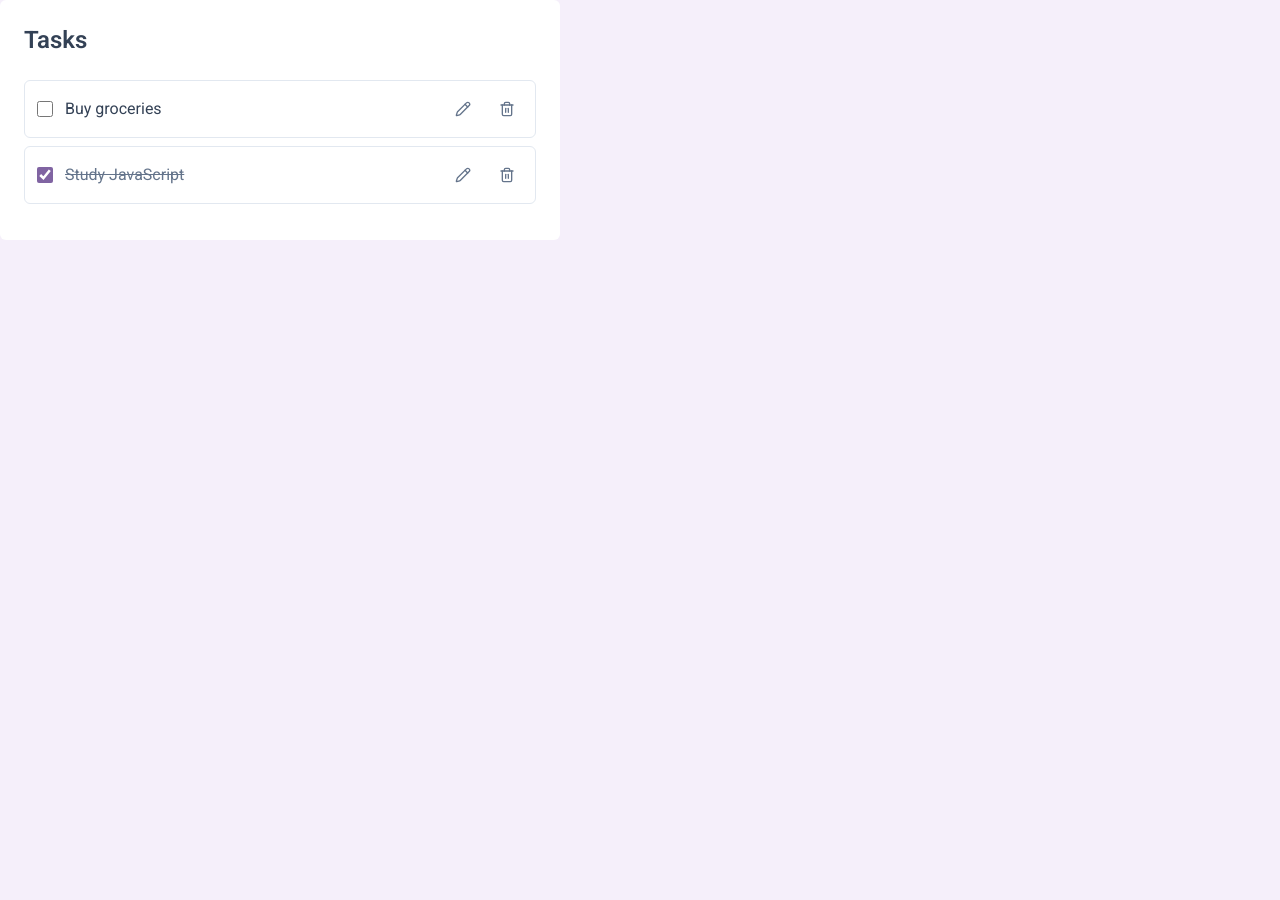
TaskList › asks for confirmation before deleting a task
Click the button named "Delete Buy groceries". click: click(507, 109)
box: [491,93,523,125]
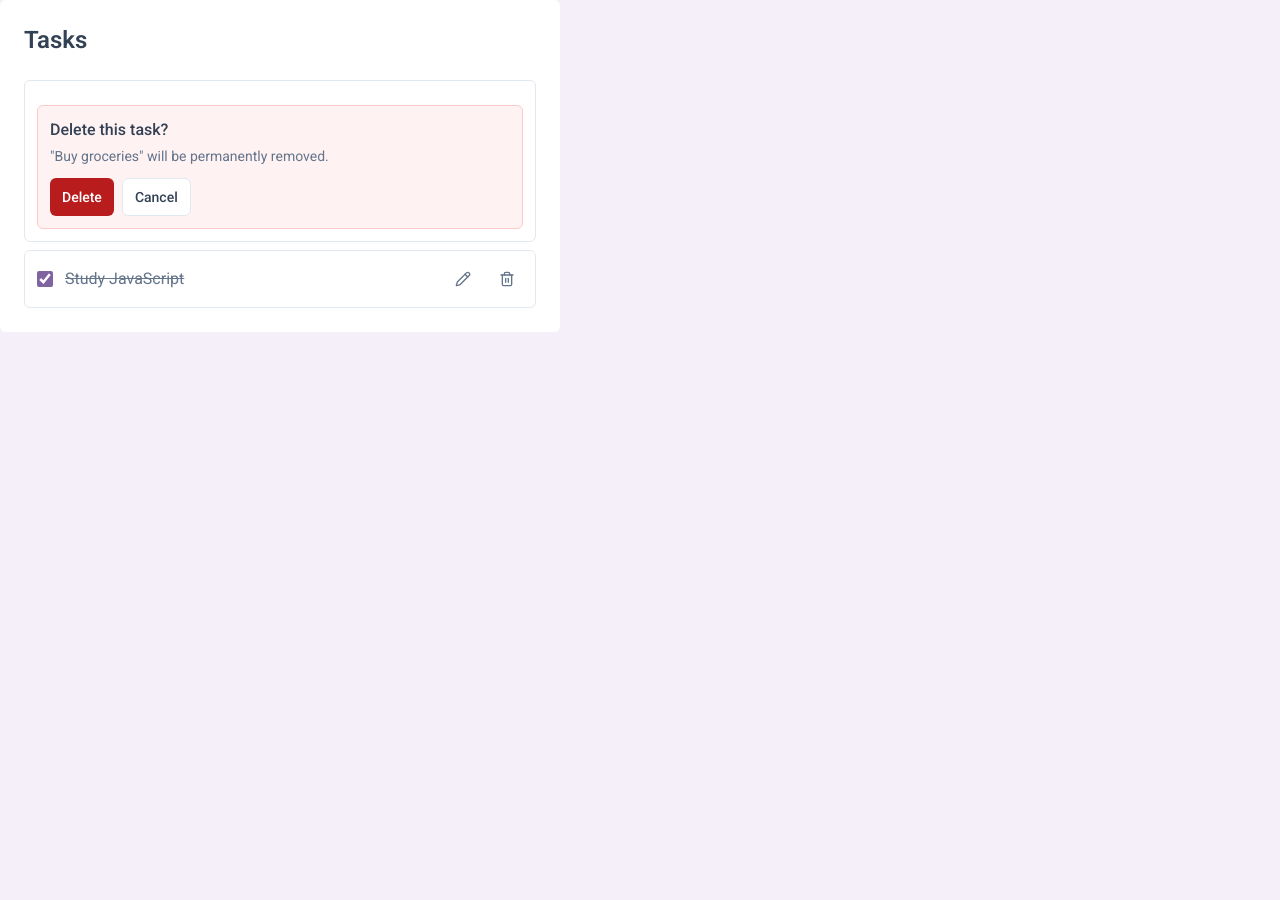
Check: the dialog is shown, box [37,105,523,229]
